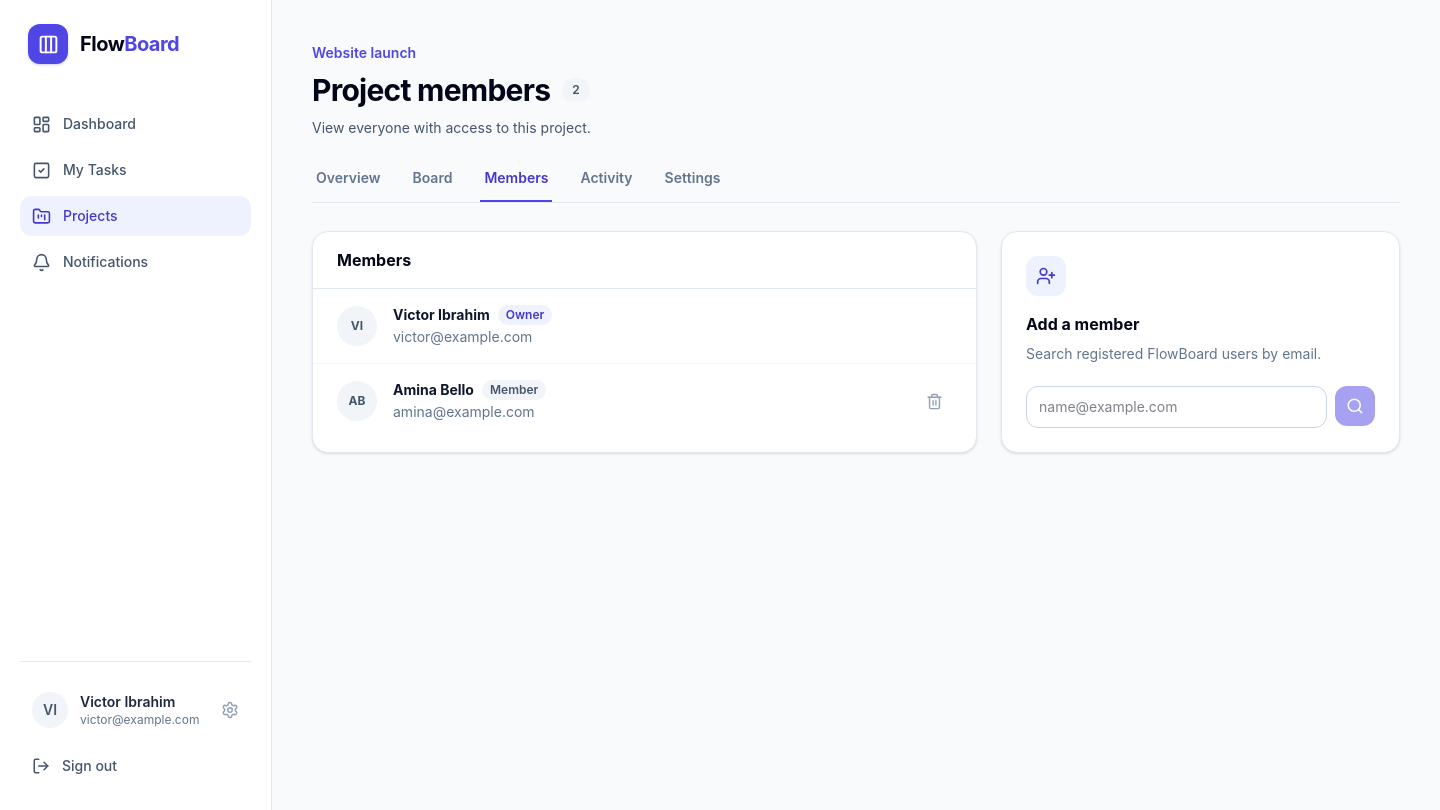
Test: FlowBoard project members UI › confirms removal and refreshes the member list
Click the button named "Remove Amina Bello" at {"x": 934, "y": 401}, box [916,383,952,419]
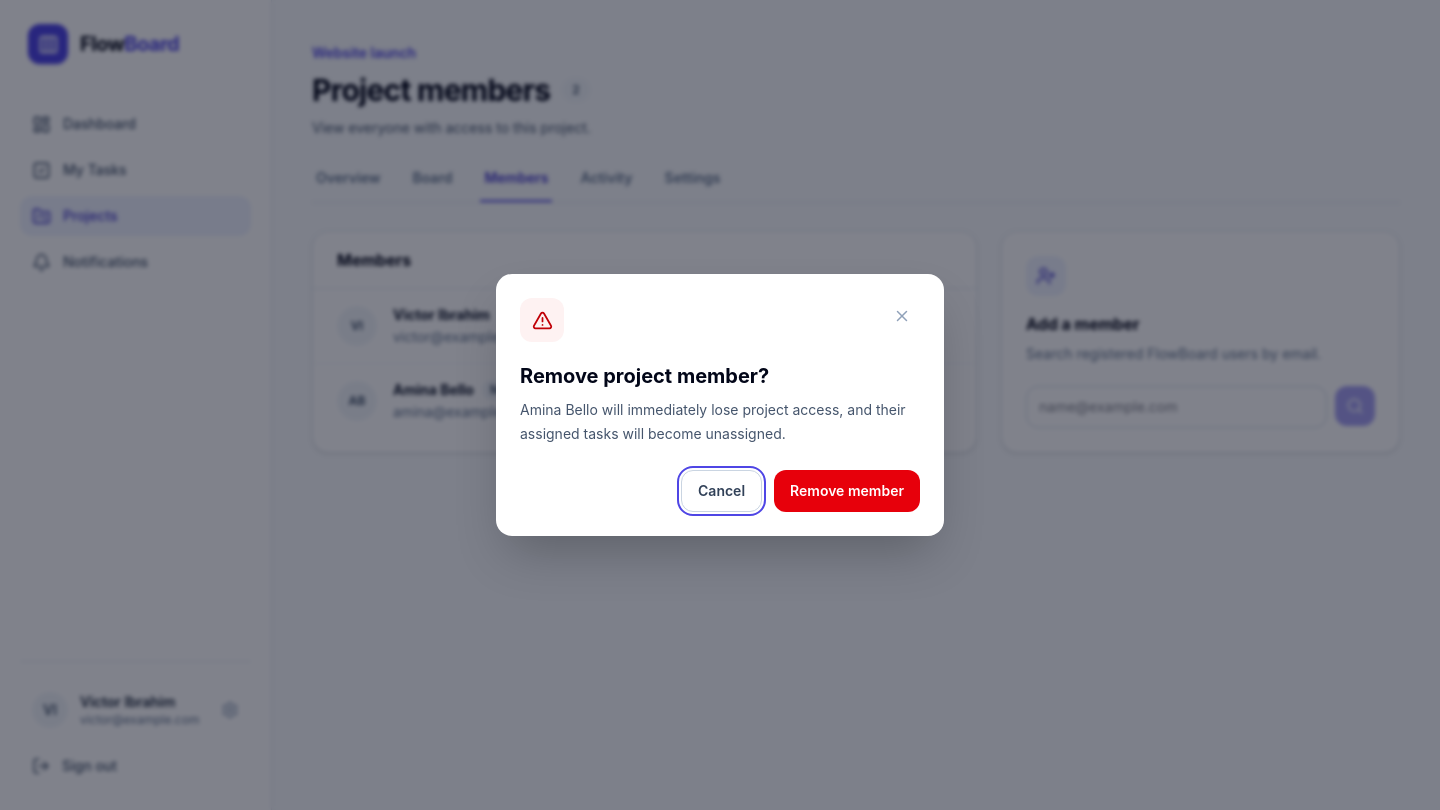
Check: the dialog "Remove project member?" is shown, box [496,274,944,536]
Check: the text "immediately lose project access" is shown, box [520,401,906,442]
Click the button "Remove member" at {"x": 847, "y": 491}, box [774,470,920,512]
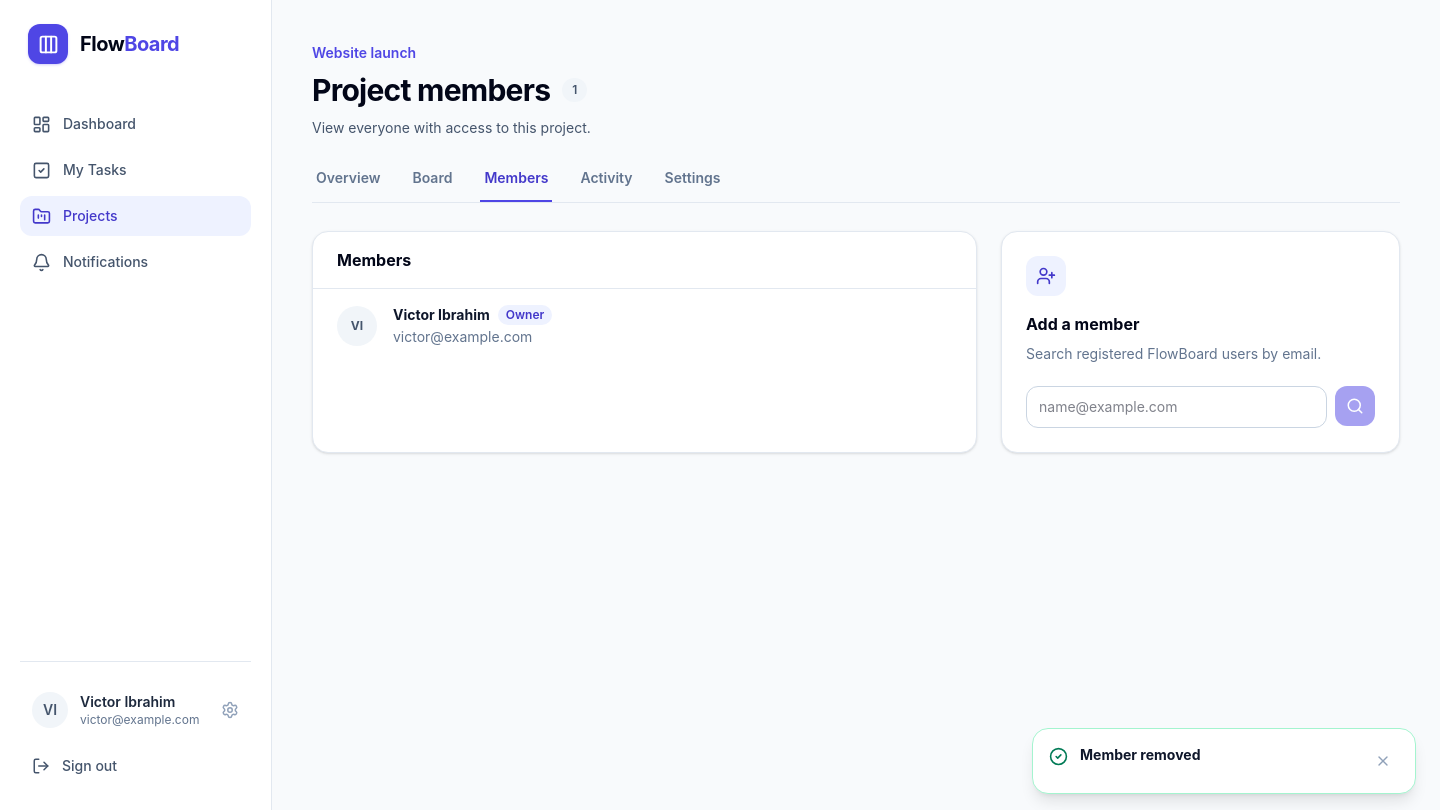
Check: the text "Amina Bello" is gone
